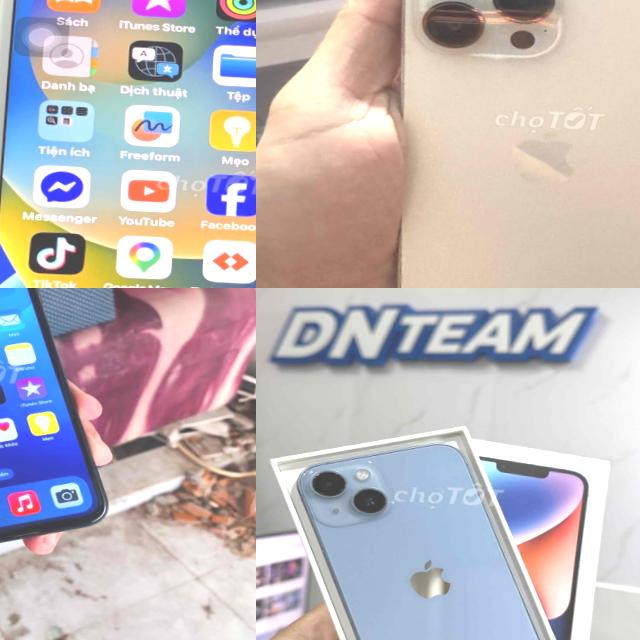gen_14: (369, 0, 640, 288), (289, 423, 575, 640)
gen_7_8: (0, 0, 256, 288)
gen_x_xs: (0, 288, 125, 565)
